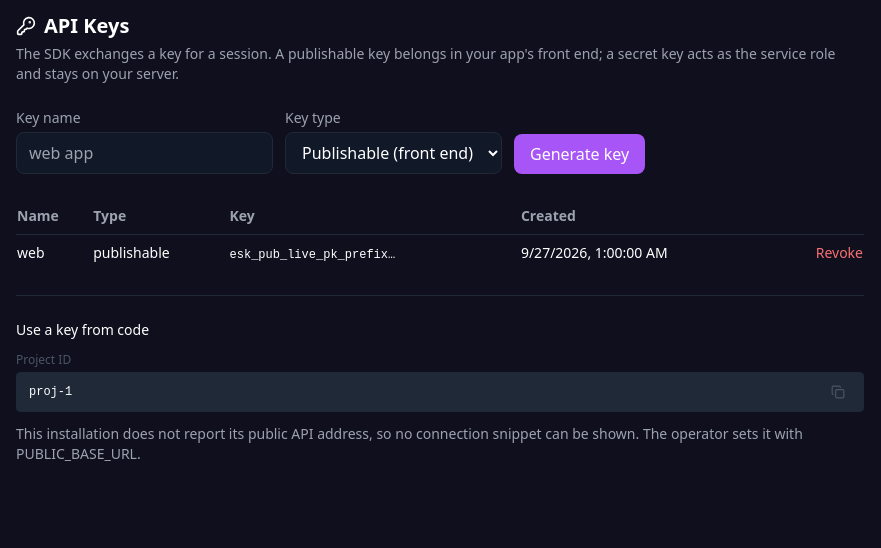
Test: SDK keys › a refused request is reported
This screenshot has width=881, height=548.
Expected: the row with test id "sdk-key-7" is shown, [16,234,864,271]
Click the button "Generate key" at (580, 154), box [514,134,645,174]
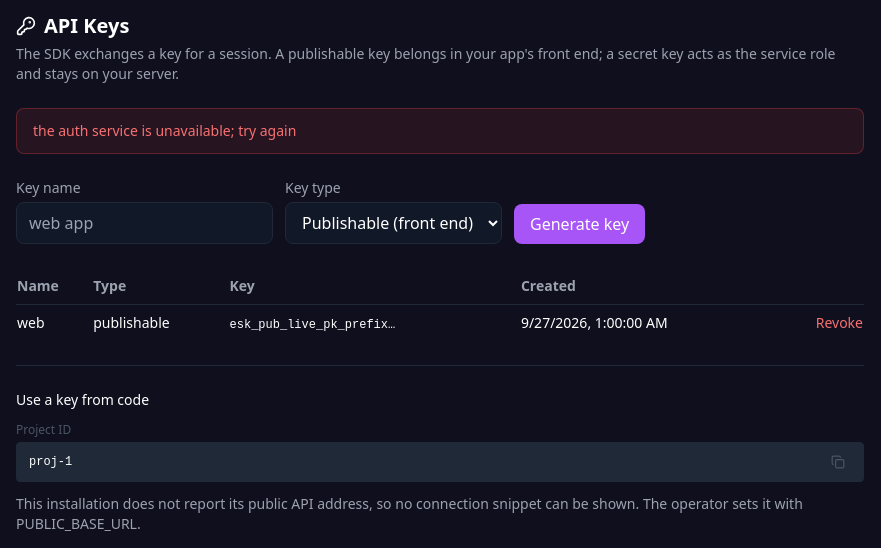
Expected: the text "the auth service is unavailable; try again" is shown, [16,108,864,154]
